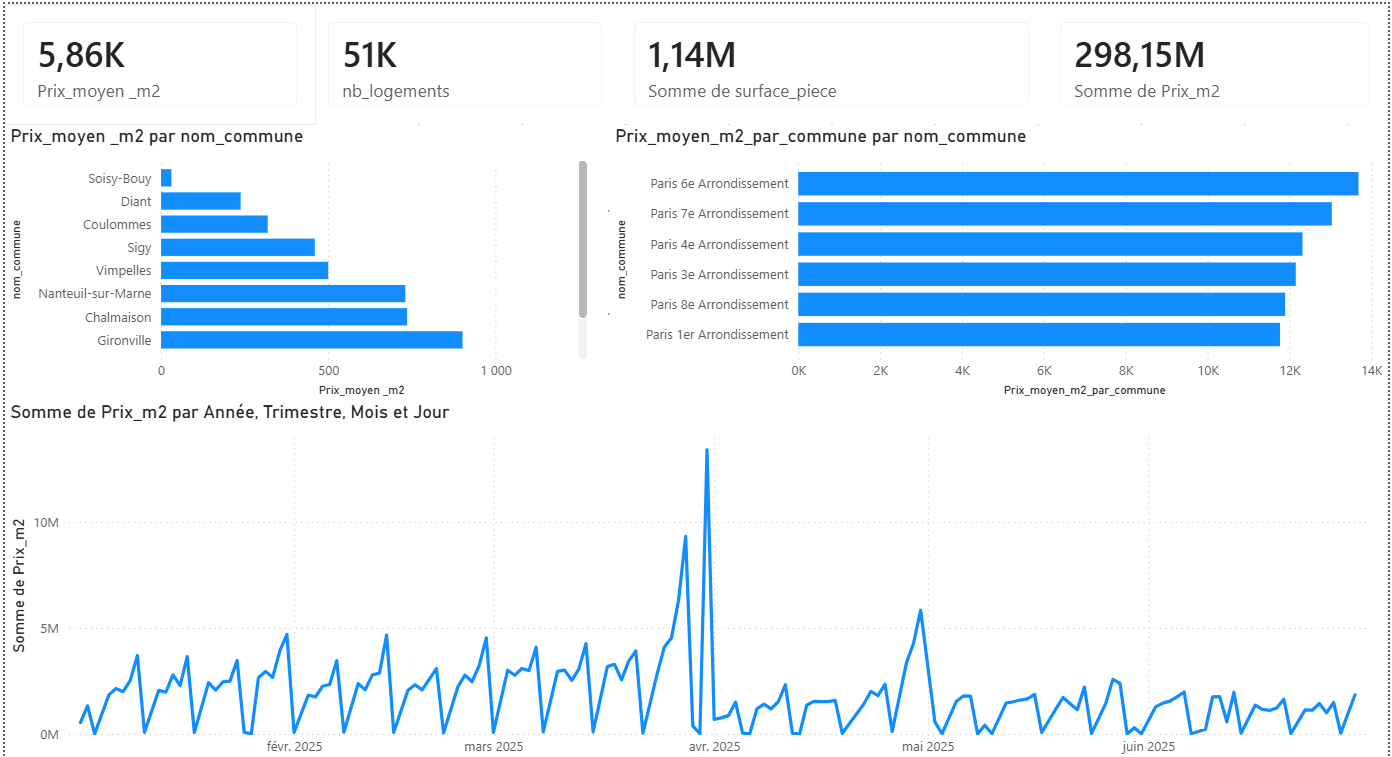

The page's visual inventory and layout, read from the dashboard file:
{"tool":"powerbi","page":{"name":"Doublon de Page 10","canvas":[1280,720],"ordinal":1},"visuals":[{"type":"cardVisual","fields":{"Data":["clean_dataset.nb_logements"]},"box":[282.7,0,288,112],"z":0},{"type":"cardVisual","fields":{"Data":["clean_dataset.Prix_moyen _m2"]},"box":[0,0,288,112],"z":1000},{"type":"cardVisual","fields":{"Data":["Sum(clean_dataset.surface_piece)"]},"box":[565.3,0,400,112],"z":2000},{"type":"cardVisual","fields":{"Data":["Sum(clean_dataset.Prix_m2)"]},"box":[960,0,320,112],"z":3000},{"type":"clusteredBarChart","fields":{"Category":["clean_dataset.nom_commune"],"Y":["clean_dataset.Prix_moyen _m2"]},"box":[0,112,544,256],"z":4000},{"type":"clusteredBarChart","fields":{"Category":["clean_dataset.nom_commune"],"Y":["clean_dataset.Prix_moyen_m2_par_commune"]},"box":[560,112,720,256],"z":5000},{"type":"lineChart","fields":{"Category":["clean_dataset.date_mutation.Variation.Hiérarchie de dates.Année","clean_dataset.date_mutation.Variation.Hiérarchie de dates.Trimestre","clean_dataset.date_mutation.Variation.Hiérarchie de dates.Mois","clean_dataset.date_mutation.Variation.Hiérarchie de dates.Jour"],"Y":["Sum(clean_dataset.Prix_m2)"]},"box":[0,368,1280,352],"z":6000}]}

Visuals, with their boxes on the page's 1280x720 design canvas (x1, y1, x2, y2). These are canvas units, not pixel positions in the 1392x757 screenshot, which may show the page scaled, cropped or inside an application window:
cardVisual - clean_dataset.nb_logements: [x1=283, y1=0, x2=571, y2=112]
cardVisual - clean_dataset.Prix_moyen _m2: [x1=0, y1=0, x2=288, y2=112]
cardVisual - Sum(clean_dataset.surface_piece): [x1=565, y1=0, x2=965, y2=112]
cardVisual - Sum(clean_dataset.Prix_m2): [x1=960, y1=0, x2=1280, y2=112]
clusteredBarChart - clean_dataset.nom_commune x clean_dataset.Prix_moyen _m2: [x1=0, y1=112, x2=544, y2=368]
clusteredBarChart - clean_dataset.nom_commune x clean_dataset.Prix_moyen_m2_par_commune: [x1=560, y1=112, x2=1280, y2=368]
lineChart - clean_dataset.date_mutation.Variation.Hiérarchie de dates.Année x clean_dataset.date_mutation.Variation.Hiérarchie de dates.Trimestre: [x1=0, y1=368, x2=1280, y2=720]
